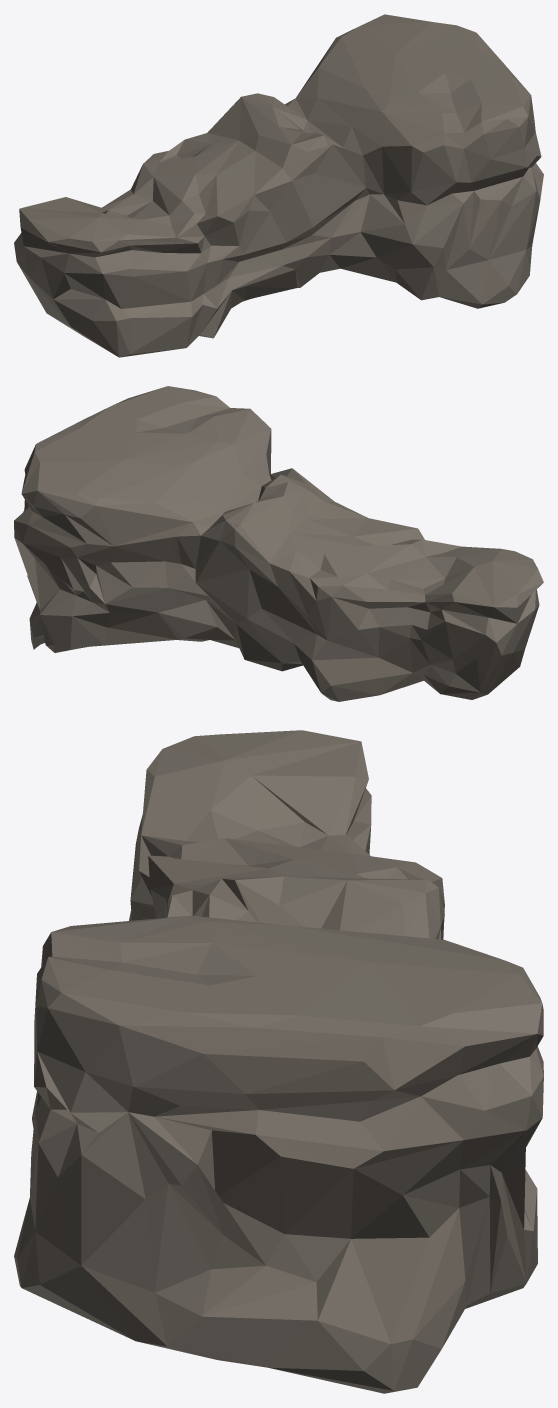
File: SM_Env_Rock_Large_08.glb
The picture shows the model from 3 angles, top to bottom: view 1: azimuth 30°, elevation 25°; view 2: azimuth 150°, elevation 25°; view 3: azimuth 270°, elevation 25°; orthographic projection. The views are drawn at different scales.
Visible parts, largest first — view 1: SM_Env_Rock_Large_08_part00; view 2: SM_Env_Rock_Large_08_part00; view 3: SM_Env_Rock_Large_08_part00.
Part boxes in pixels (box(x1,y1,x2,y2)): SM_Env_Rock_Large_08_part00: box(14, 14, 543, 357); SM_Env_Rock_Large_08_part00: box(14, 386, 543, 701); SM_Env_Rock_Large_08_part00: box(14, 730, 543, 1393).
Bounding box in the file's own units: 10.67 × 4.34 × 5.68.
1 material, 1 textured.
